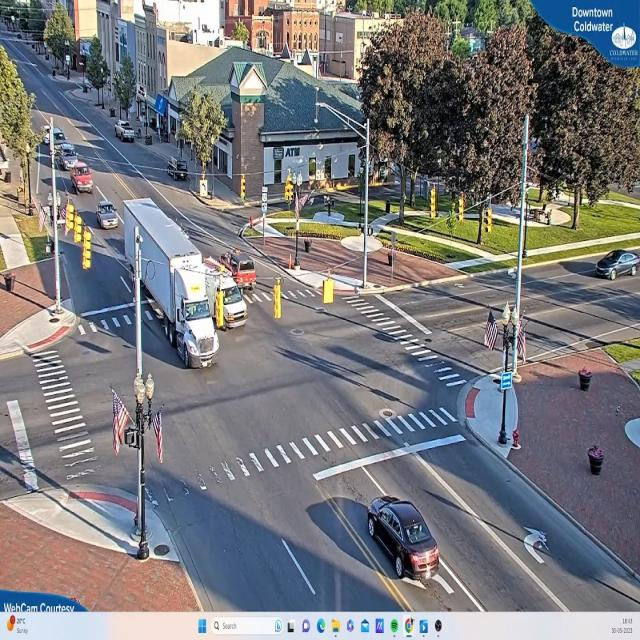car: (366, 498, 442, 583), (595, 250, 639, 278), (72, 163, 95, 193), (97, 205, 121, 230), (117, 120, 138, 142)
truck: (165, 248, 218, 370), (206, 266, 248, 336)
